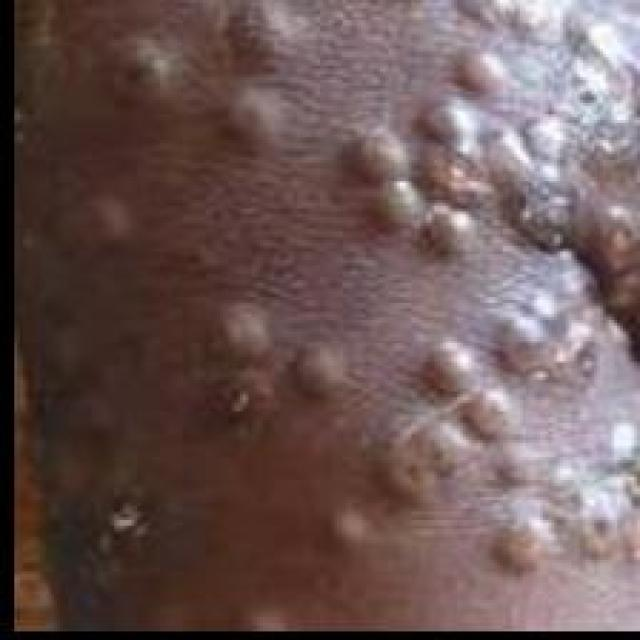monkeypox: (12, 0, 640, 564)
